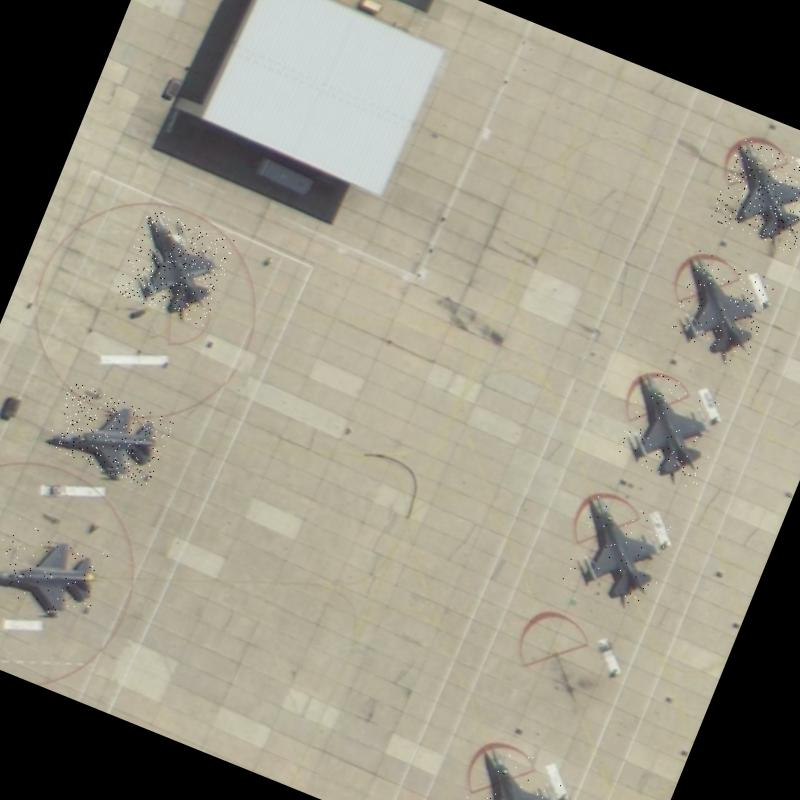A5: (114, 206, 238, 328), (610, 368, 730, 491), (560, 492, 680, 613), (44, 380, 174, 488), (663, 249, 778, 369), (0, 514, 112, 629), (708, 136, 800, 254), (448, 735, 577, 800)
